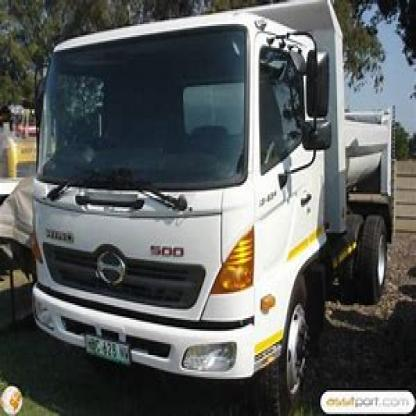dump_truck: (30, 9, 394, 400)
